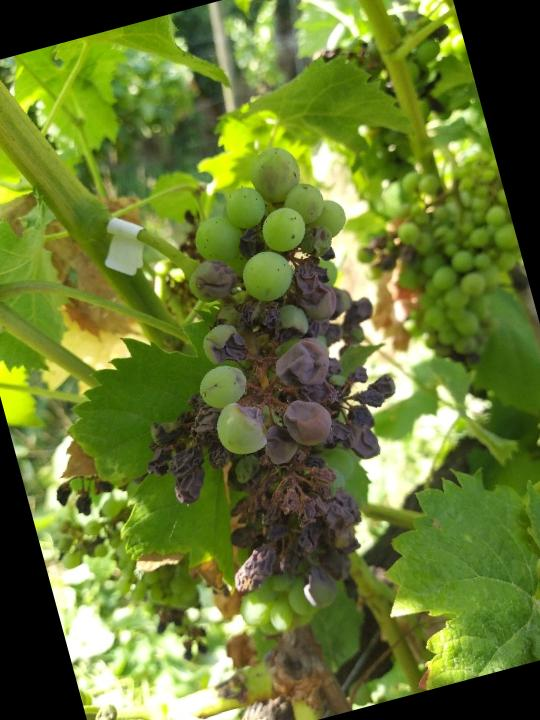grape: (72, 130, 457, 663)
